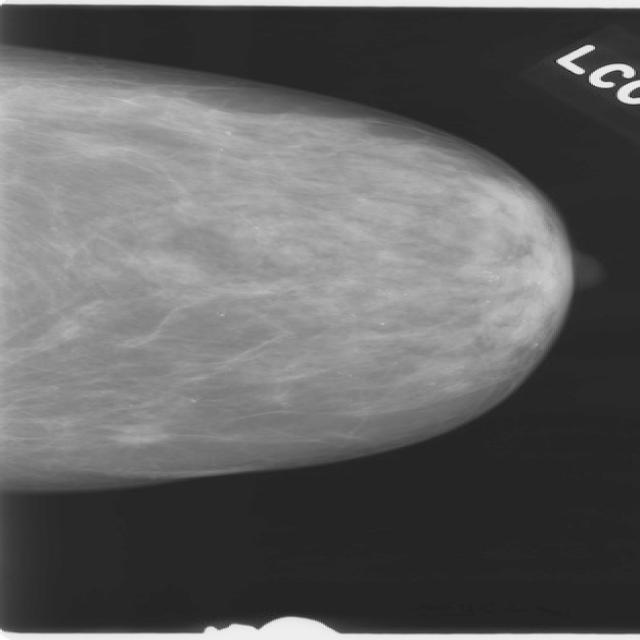tumour: (108, 423, 164, 444)
